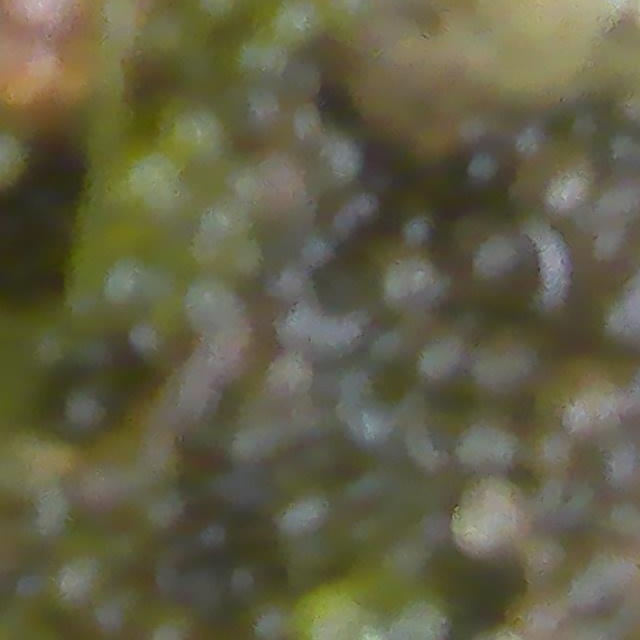SeaGrape: (158, 98, 233, 171), (467, 230, 539, 305), (456, 144, 511, 200)
